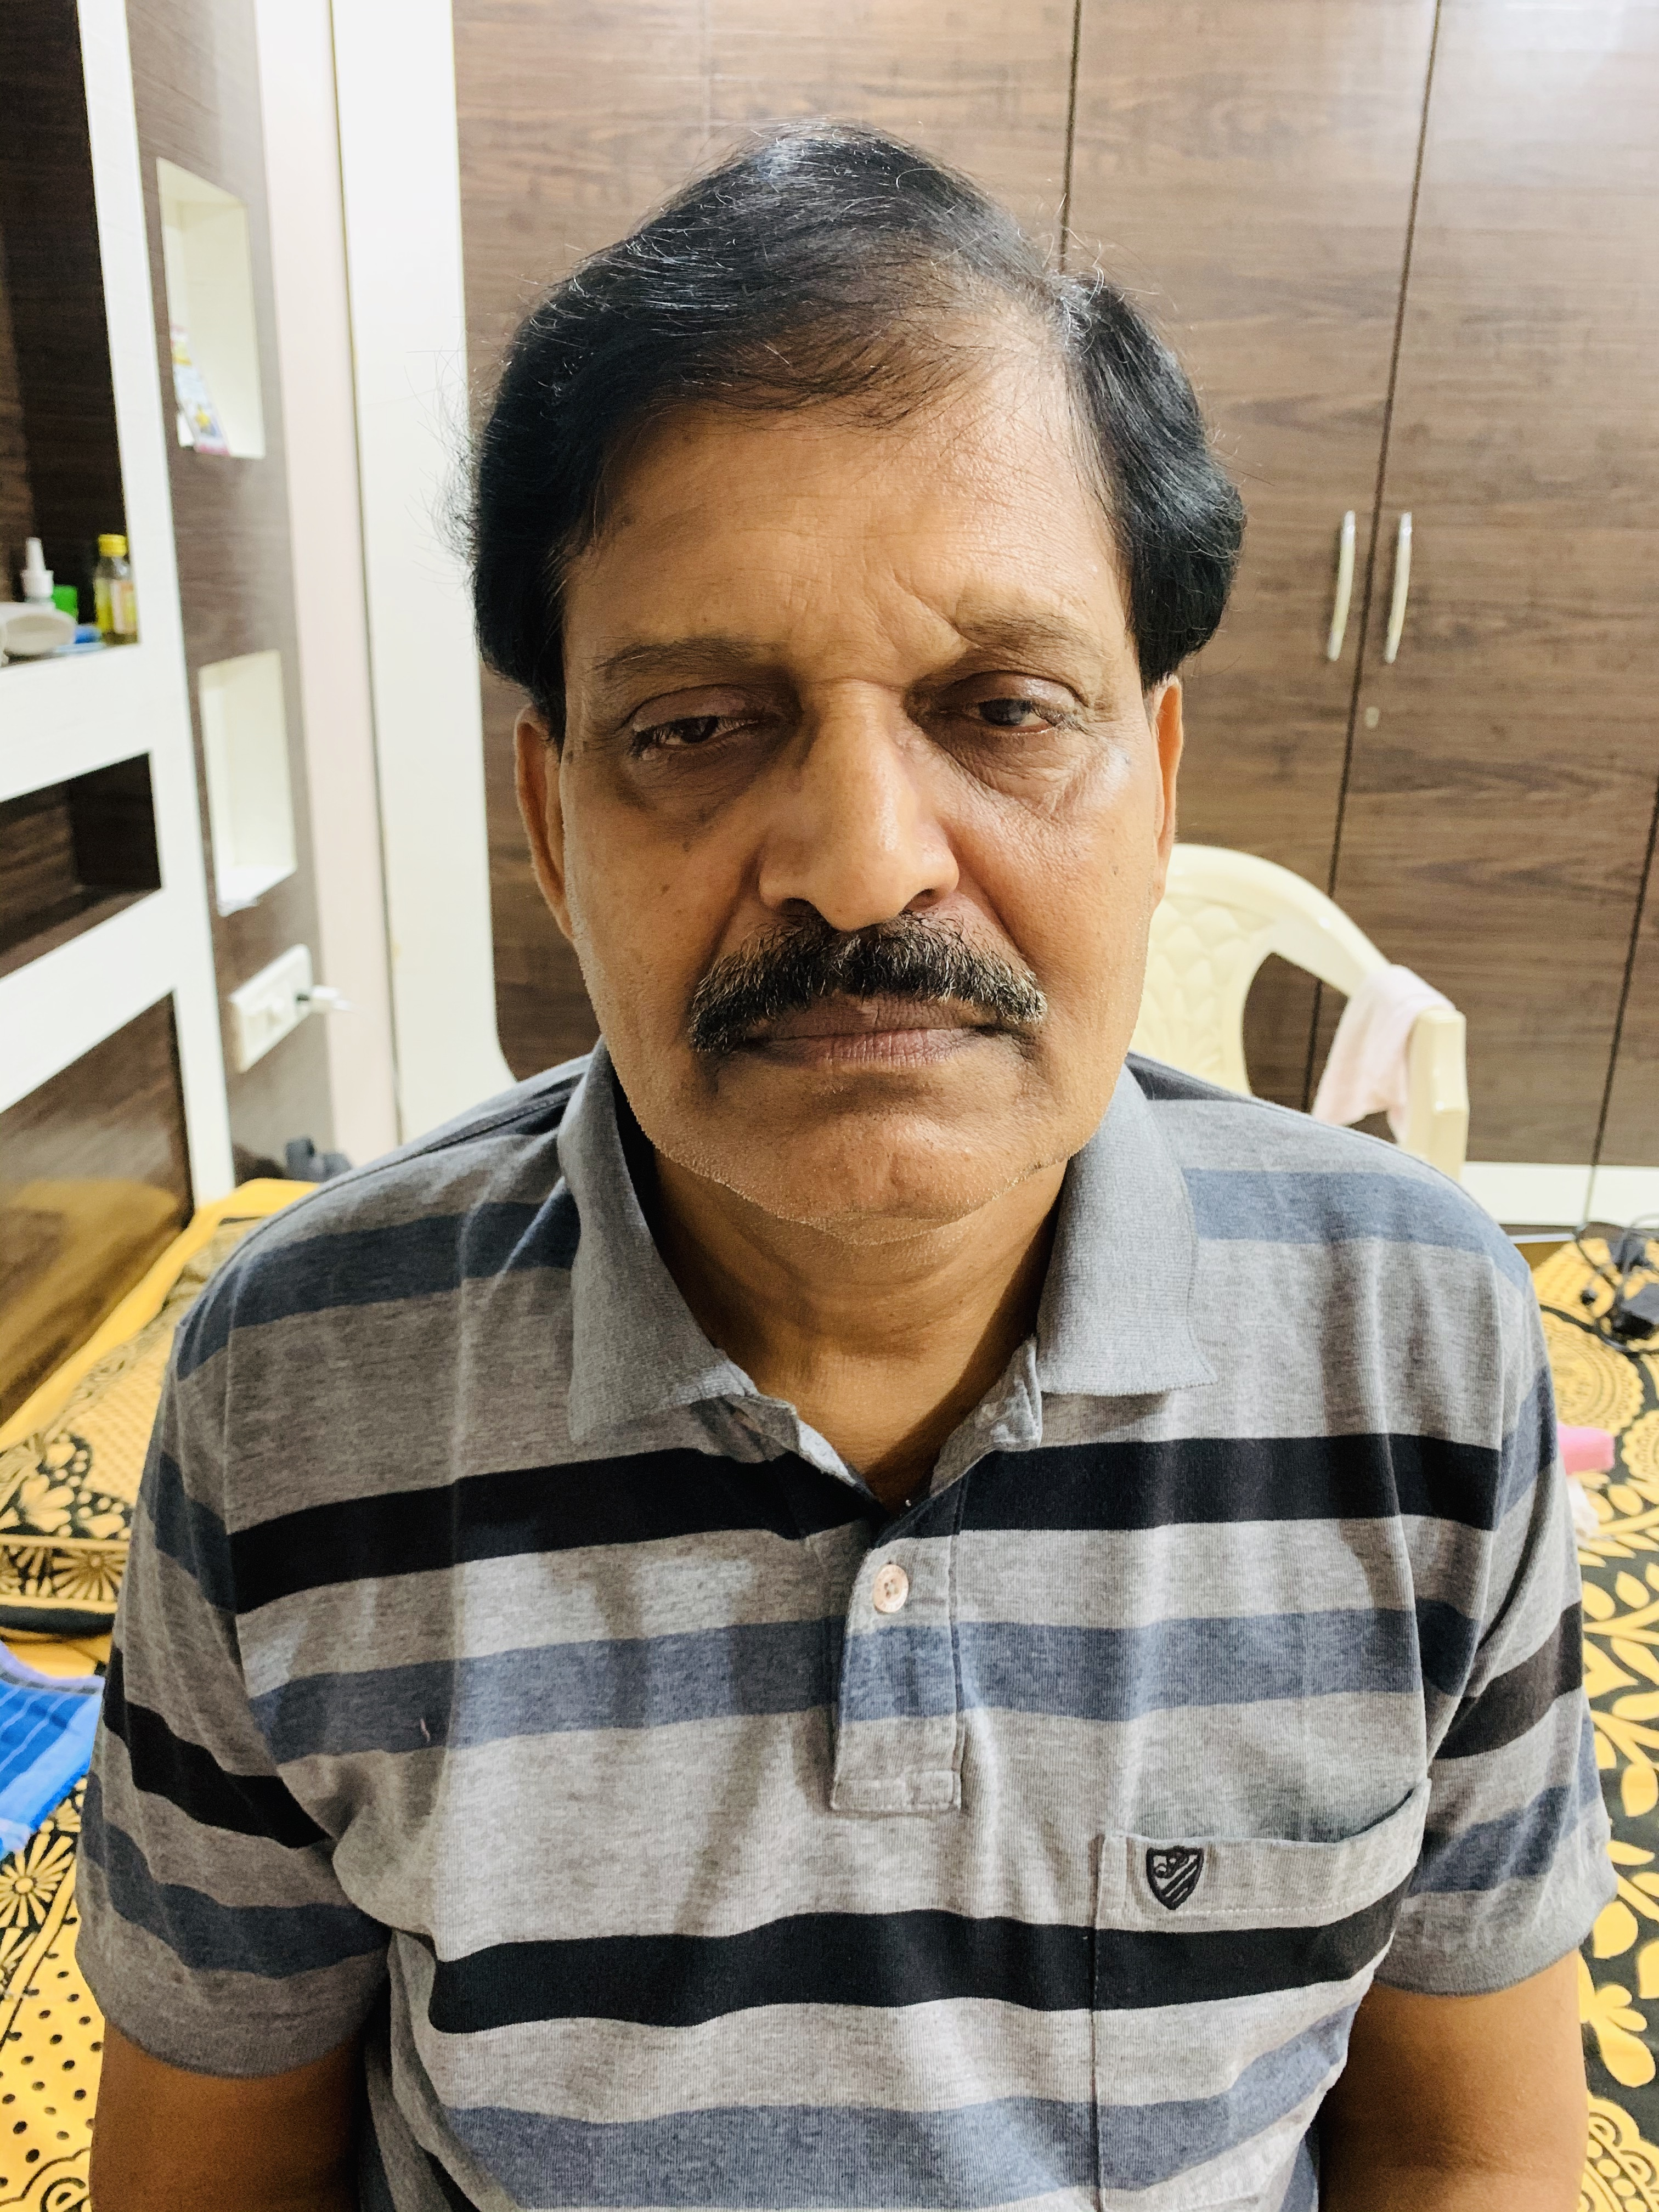Half Asleep: (586, 648, 1157, 787)
